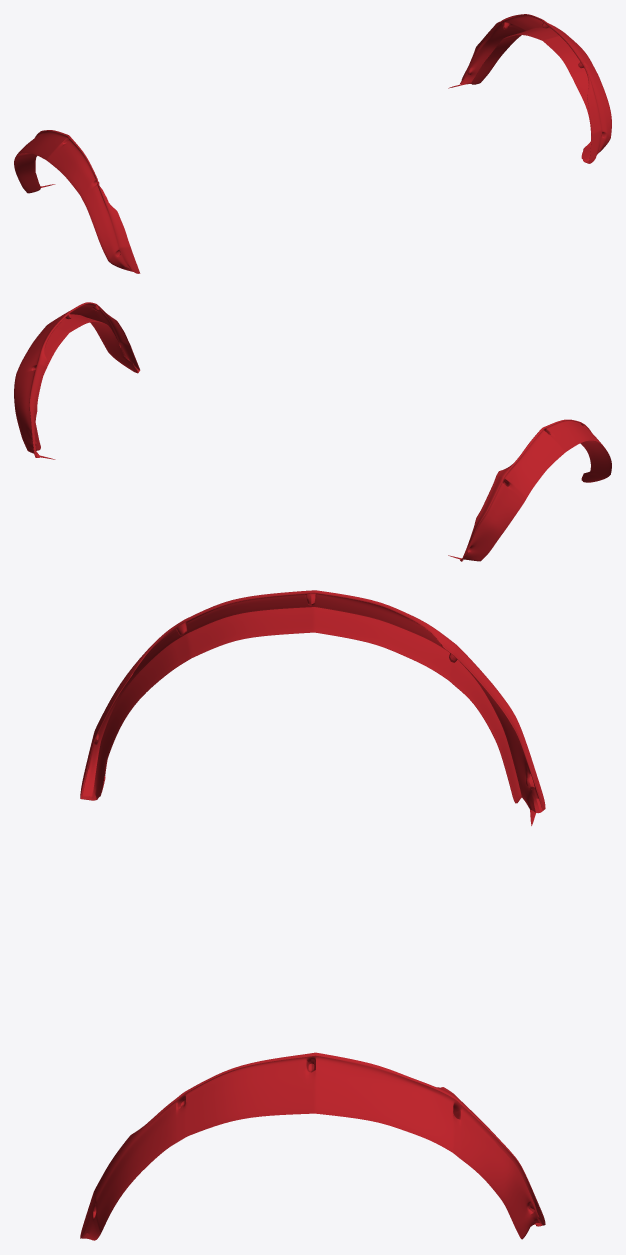
The model's file is standard.glb.
3 views of the same model, one above another, from view 1: azimuth 30°, elevation 25°; view 2: azimuth 150°, elevation 25°; view 3: azimuth 270°, elevation 25° (orthographic). The views are drawn at different scales.
Parts seen in each view (by area): view 1: Miata_Aero_FrontFlare; view 2: Miata_Aero_FrontFlare; view 3: Miata_Aero_FrontFlare.
Part boxes in pixels (box(x1,y1,x2,y2)): Miata_Aero_FrontFlare: box(14, 14, 611, 273); Miata_Aero_FrontFlare: box(14, 302, 611, 561); Miata_Aero_FrontFlare: box(80, 590, 545, 1240).
Bounding box in the file's own units: 75.46 × 13.7 × 29.3.
